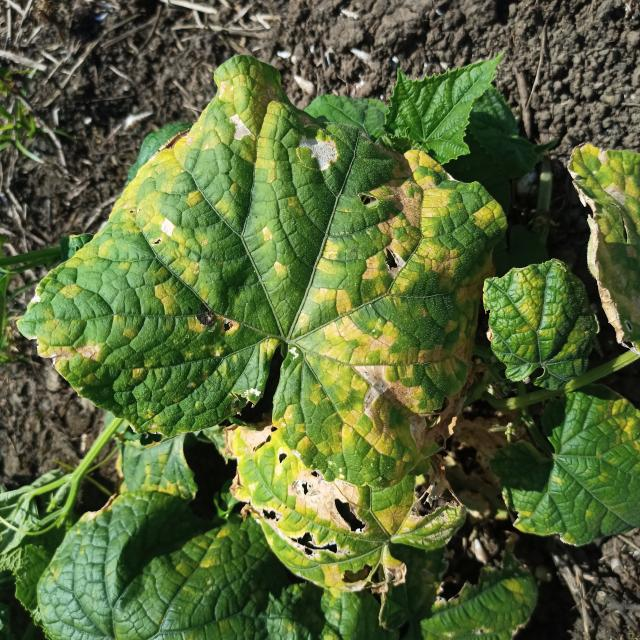disease_cucumber: (29, 59, 488, 572)
